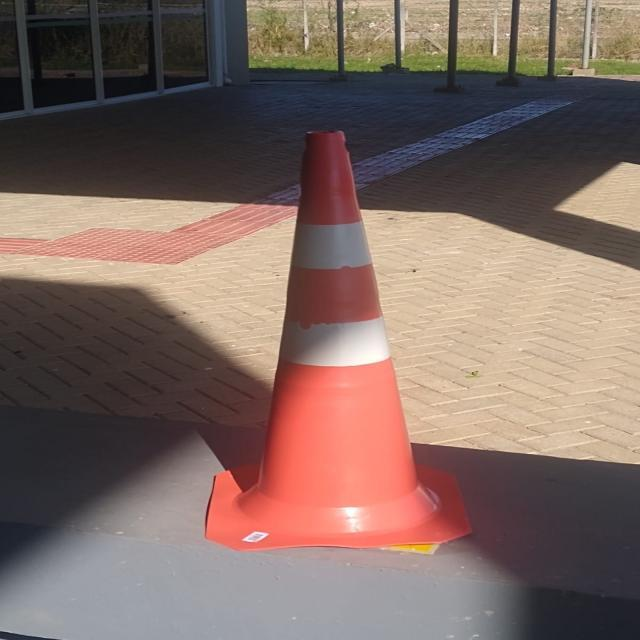Cone: (183, 126, 481, 560)
